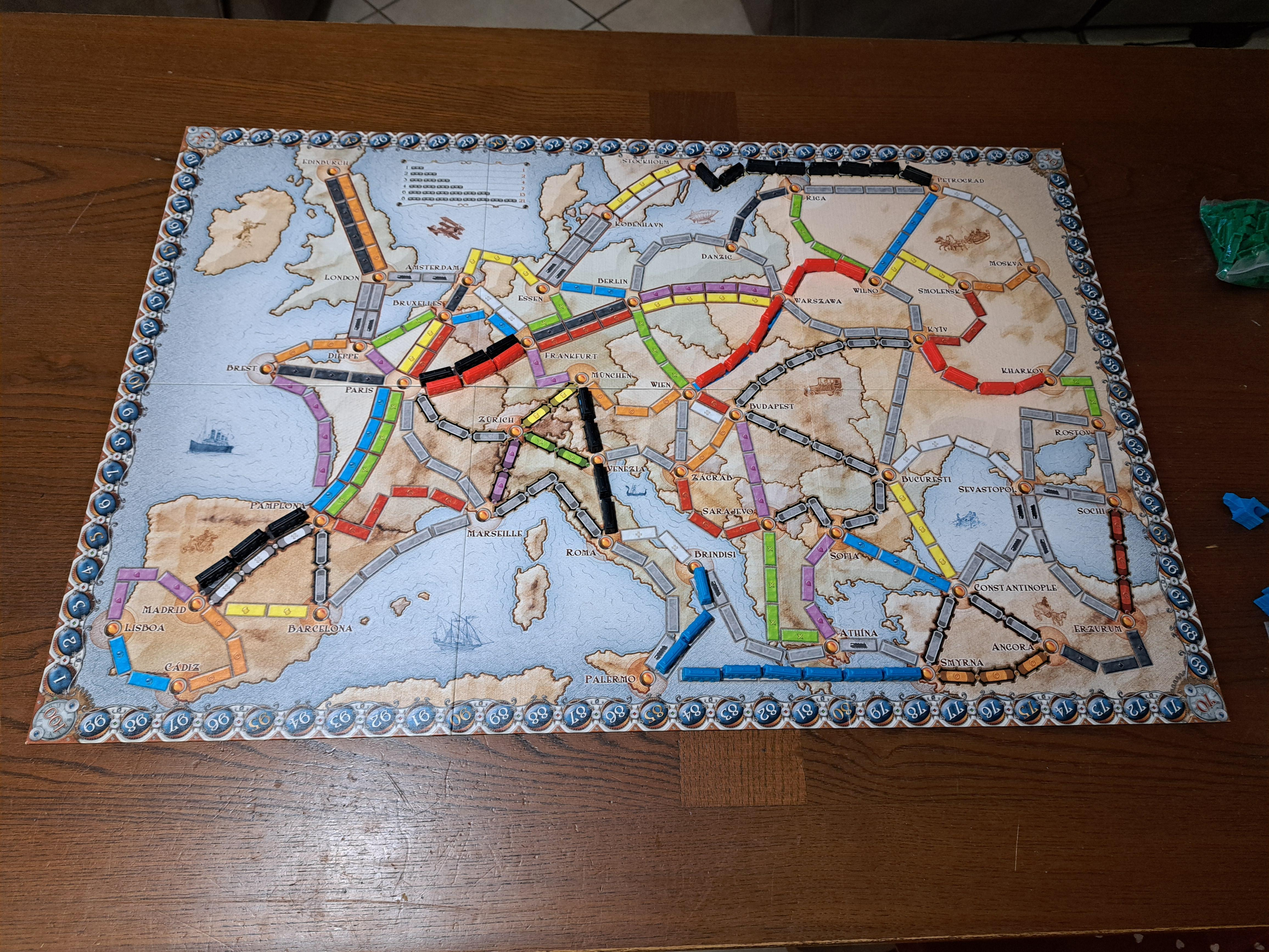corner_bl: (26, 697, 82, 743)
corner_br: (1181, 681, 1230, 721)
corner_tl: (180, 127, 219, 151)
corner_tr: (1034, 147, 1067, 171)
